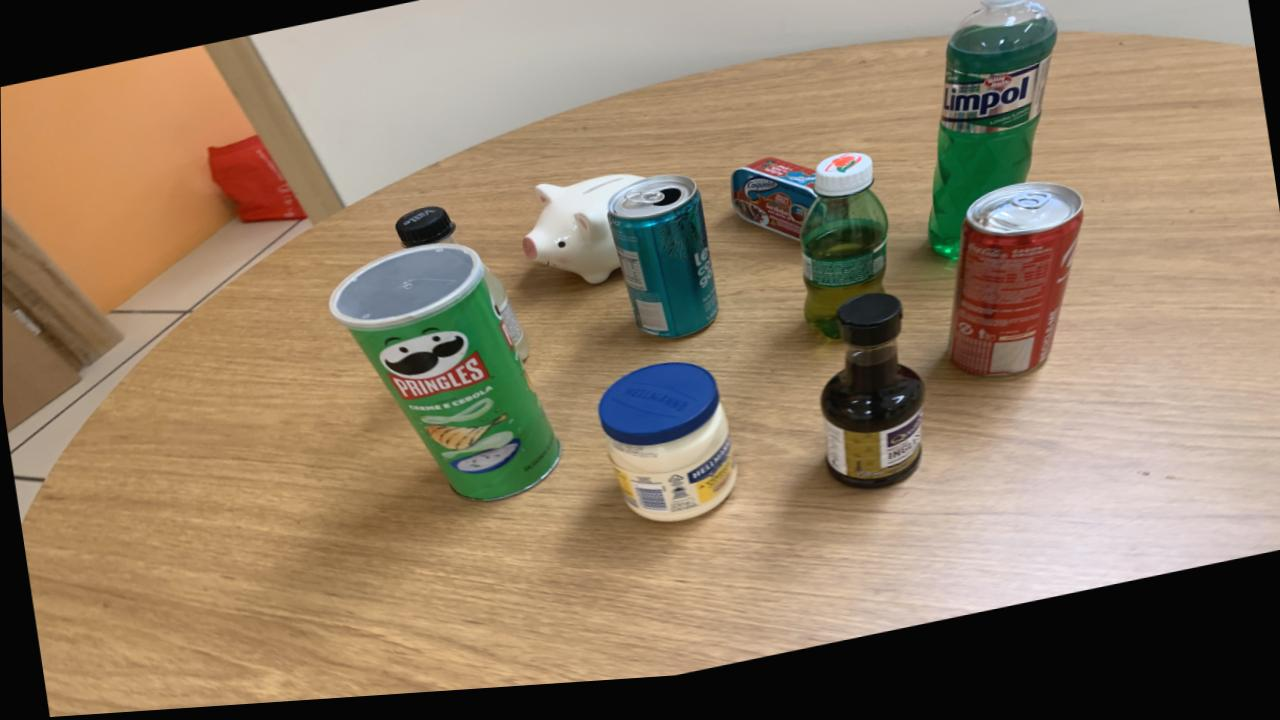Coke-Drinks: (948, 196, 1082, 390)
Detergent-Cleanup_Items: (927, 0, 1057, 272)
English_Sauce-Pantry_Items: (820, 304, 924, 500)
Guarana-Drinks: (799, 164, 888, 350)
Mayonnaise-Pantry_Items: (597, 371, 736, 531)
Pig_Safe-Miscellaneous: (521, 182, 639, 292)
Pringles-Snacks: (328, 250, 560, 508)
Soda-Drinks: (482, 273, 530, 367), (394, 211, 457, 254)
Tea-Drinks: (607, 184, 718, 347)
Tuna_Can-Pantry_Items: (729, 168, 816, 251)
